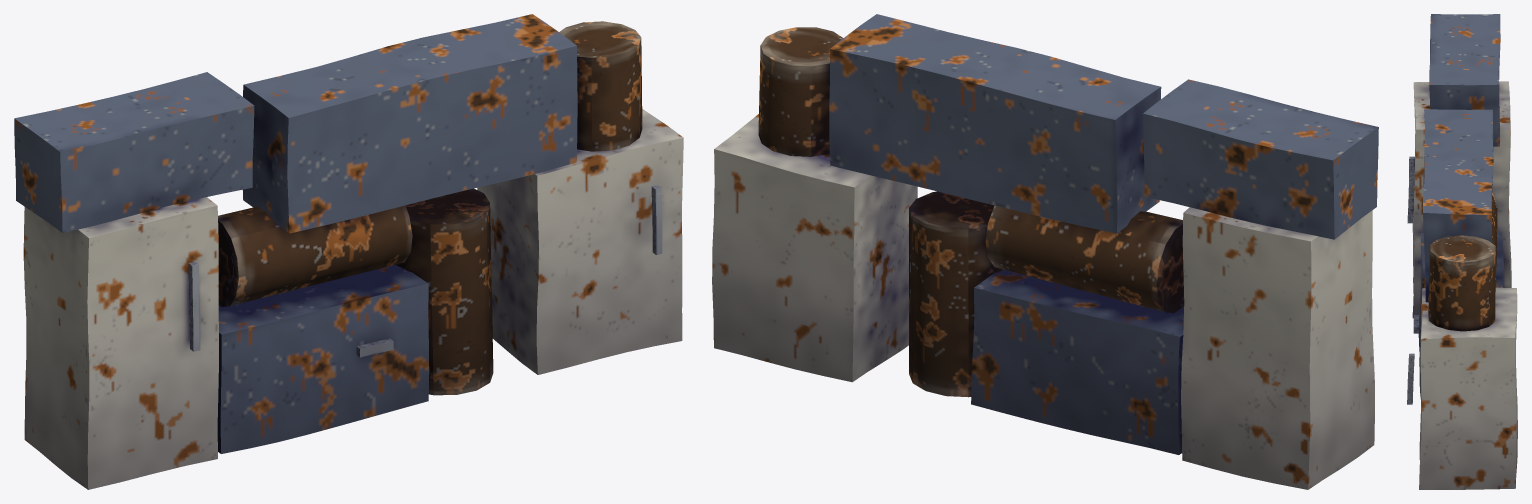
Rendered from JunkWall.glb.
The picture shows the model from 3 angles, left to right: view 1: azimuth 30°, elevation 25°; view 2: azimuth 150°, elevation 25°; view 3: azimuth 270°, elevation 25°; orthographic projection. The views are drawn at different scales.
Visible parts, largest first — view 1: Doors, Fridges, Drums, Handles; view 2: Doors, Fridges, Drums; view 3: Fridges, Doors, Drums, Handles.
Part boxes in pixels (<box>): Doors: <box>14,14,577,453</box>; Fridges: <box>23,109,683,489</box>; Drums: <box>218,21,642,395</box>; Handles: <box>188,185,662,357</box>; Doors: <box>829,14,1378,454</box>; Fridges: <box>712,114,1374,489</box>; Drums: <box>758,27,1184,397</box>; Fridges: <box>1412,81,1517,489</box>; Doors: <box>1418,14,1504,396</box>; Drums: <box>1424,193,1498,331</box>; Handles: <box>1407,156,1419,404</box>.
Size of the model in its own units: 7.74 by 4.03 by 1.6.
Materials: 4 (4 with a texture image).
